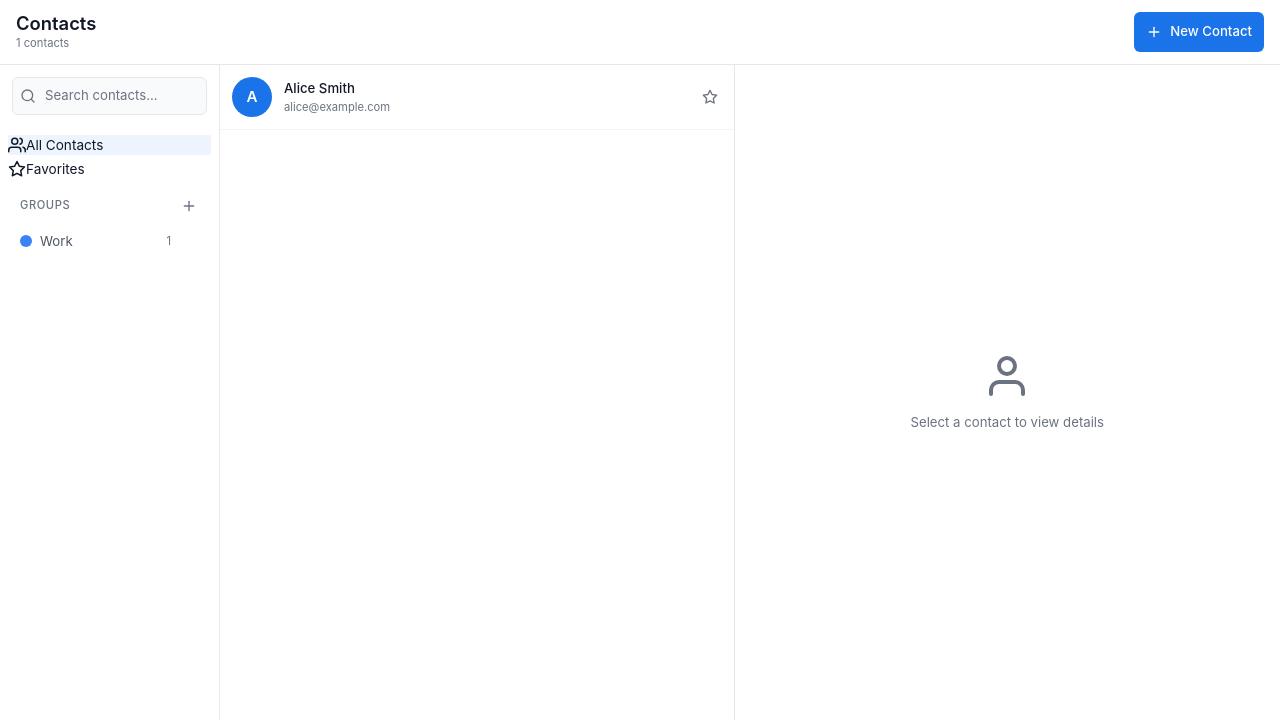
ContactsPanel - contact with groups in detail view (lines 443-444) › shows group labels in contact detail when contact has groups
Click the text "Alice Smith".
click(319, 88)  # box [284, 80, 355, 96]
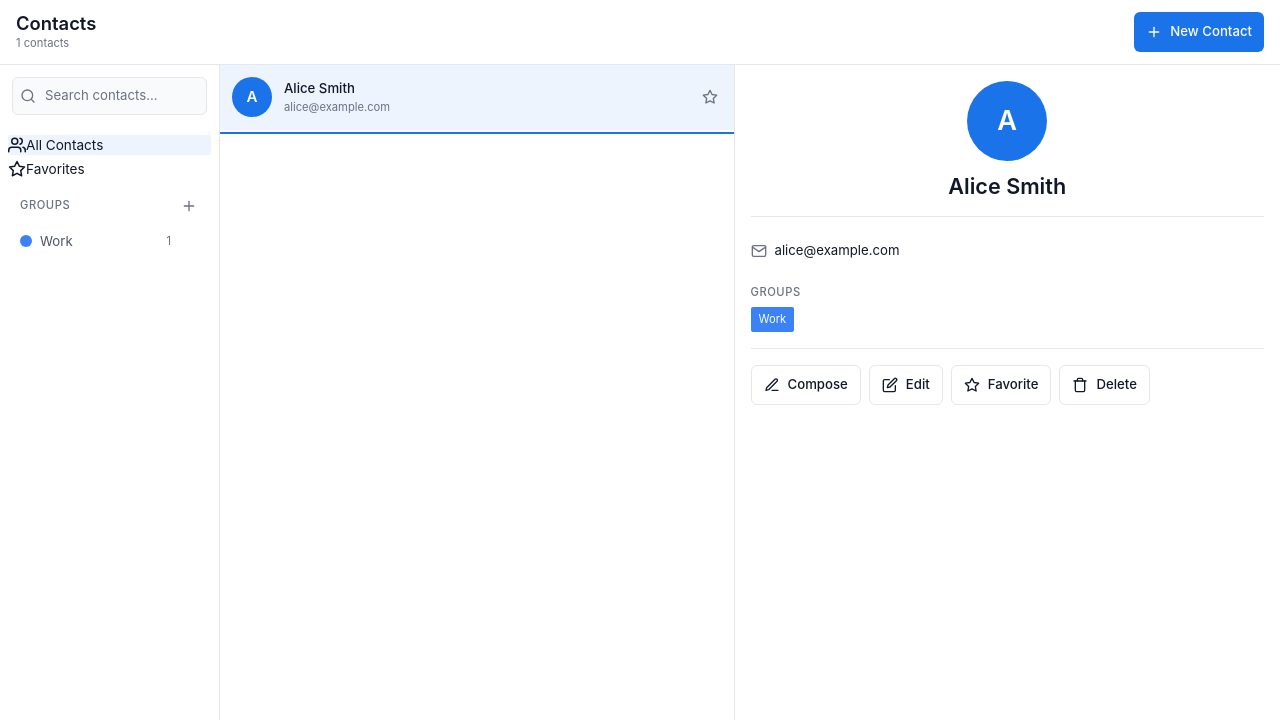
Expected: the 1st text "Work" is shown, [40, 232, 73, 251]
Now the button "Edit" is shown, box [869, 365, 943, 405]
